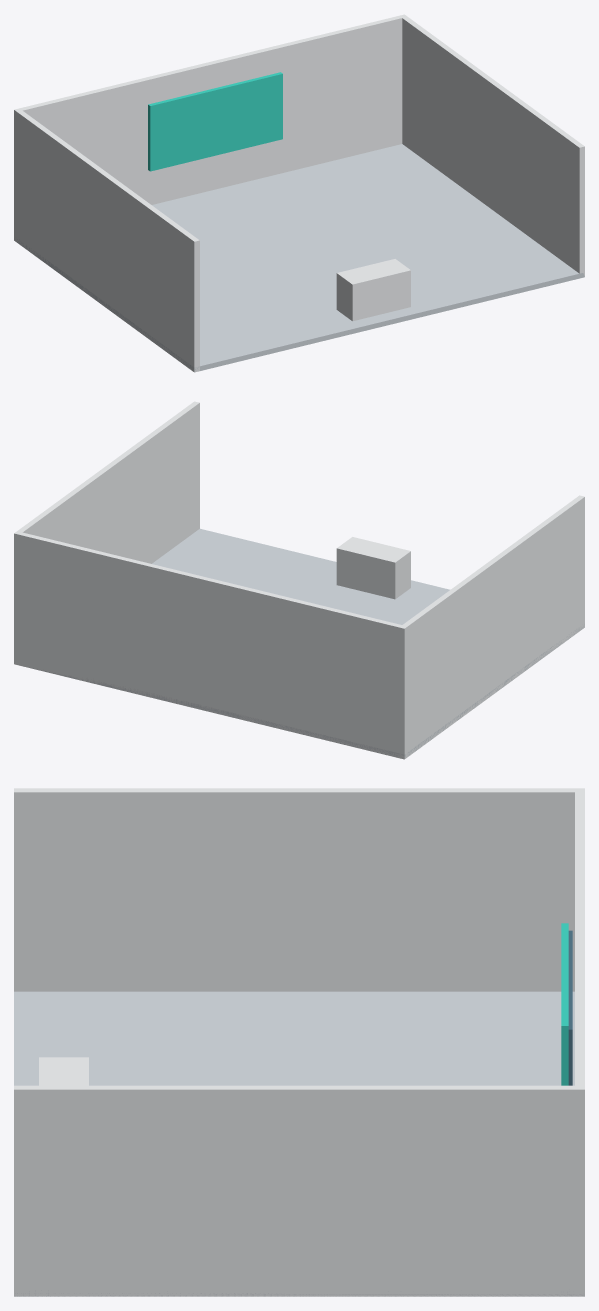
3 views of the same model, one above another, from view 1: azimuth 30°, elevation 25°; view 2: azimuth 150°, elevation 25°; view 3: azimuth 270°, elevation 25° (orthographic). The views are drawn at different scales.
Parts seen in each view (by area): view 1: Exhibition Booth Concept; view 2: Exhibition Booth Concept; view 3: Exhibition Booth Concept.
Part boxes in pixels (x1,y1,x2,y2): Exhibition Booth Concept: (14,14,584,372); Exhibition Booth Concept: (14,401,584,759); Exhibition Booth Concept: (14,788,584,1296).
Size of the model in its own units: 10 by 3.2 by 8.
